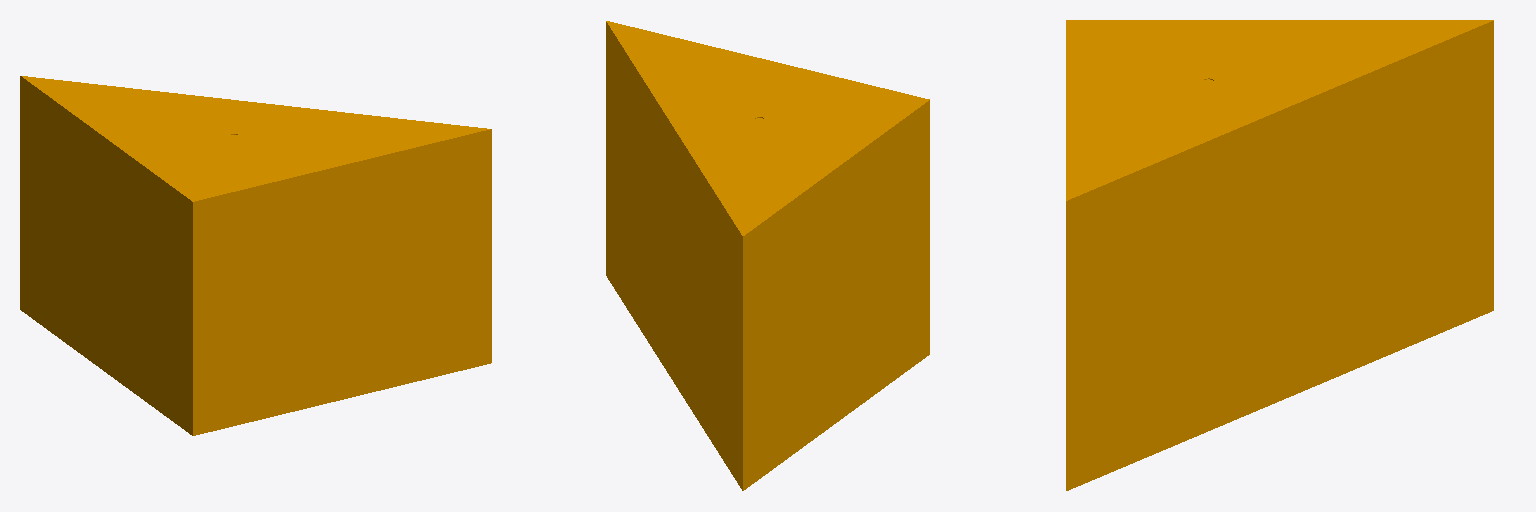
The robot description file, URDF, robot "triangle_s":
<?xml version="1.0" ?>
<robot name="triangle_s">

<link name="triangle_s_base_link">
  <inertial>
    <origin xyz="0.013333333334170227 0.013333333334170229 0.015000000000000003" rpy="0 0 0"/>
    <mass value="0.18839876692488344"/>
    <inertia ixx="3.1e-05" iyy="3.1e-05" izz="3.3e-05" ixy="8e-06" iyz="0.0" ixz="0.0"/>
  </inertial>
  <visual>
    <origin xyz="0 0 0" rpy="0 0 0"/>
    <geometry>
      <mesh filename="meshes/triangle_s_base_link.stl" scale="0.001 0.001 0.001"/>
    </geometry>
    <material name="silver"/>
  </visual>
  <collision>
    <origin xyz="0 0 0" rpy="0 0 0"/>
    <geometry>
      <mesh filename="meshes/triangle_s_base_link.stl" scale="0.001 0.001 0.001"/>
    </geometry>
  </collision>
</link>

<link name="triangle_s_APB_1">
  <inertial>
    <origin xyz="0.0 1.3322676295501878e-17 0.0" rpy="0 0 0"/>
    <mass value="3.288200310757356e-05"/>
    <inertia ixx="0.0" iyy="0.0" izz="0.0" ixy="0.0" iyz="-0.0" ixz="0.0"/>
  </inertial>
  
  
</link>

<link name="triangle_s_APHy_1">
  <inertial>
    <origin xyz="0.0 0.0 5.204170427930421e-18" rpy="0 0 0"/>
    <mass value="3.288200310757356e-05"/>
    <inertia ixx="0.0" iyy="0.0" izz="0.0" ixy="-0.0" iyz="-0.0" ixz="-0.0"/>
  </inertial>
  
  
</link>

<link name="triangle_s_APH_1">
  <inertial>
    <origin xyz="0.0 6.938893903907228e-18 -2.6020852139652106e-17" rpy="0 0 0"/>
    <mass value="3.288200310757356e-05"/>
    <inertia ixx="0.0" iyy="0.0" izz="0.0" ixy="0.0" iyz="0.0" ixz="-0.0"/>
  </inertial>
  
  
</link>

<link name="triangle_s_APS1_1">
  <inertial>
    <origin xyz="2.054660535547731e-07 2.0546605353742586e-07 -2.1412992906588713e-18" rpy="0 0 0"/>
    <mass value="3.288200310757356e-05"/>
    <inertia ixx="0.0" iyy="0.0" izz="0.0" ixy="0.0" iyz="-0.0" ixz="-0.0"/>
  </inertial>
  
  
</link>

<link name="triangle_s_APS2_1">
  <inertial>
    <origin xyz="2.0546605353742586e-07 2.0546605353742586e-07 -1.0408340855860843e-17" rpy="0 0 0"/>
    <mass value="3.288200310757356e-05"/>
    <inertia ixx="0.0" iyy="0.0" izz="0.0" ixy="-0.0" iyz="0.0" ixz="0.0"/>
  </inertial>
  
  
</link>

<joint name="Rigid 1" type="fixed">
  <origin xyz="0.02 0.0 0.015" rpy="0 0 0"/>
  <parent link="triangle_s_base_link"/>
  <child link="triangle_s_APB_1"/>
</joint>

<joint name="Rigid 2" type="fixed">
  <origin xyz="0.02 0.02 0.015" rpy="0 0 0"/>
  <parent link="triangle_s_base_link"/>
  <child link="triangle_s_APHy_1"/>
</joint>

<joint name="Rigid 3" type="fixed">
  <origin xyz="0.0 0.02 0.015" rpy="0 0 0"/>
  <parent link="triangle_s_base_link"/>
  <child link="triangle_s_APH_1"/>
</joint>

<joint name="Rigid 4" type="fixed">
  <origin xyz="0.013333 0.013333 0.0001" rpy="0 0 0"/>
  <parent link="triangle_s_base_link"/>
  <child link="triangle_s_APS1_1"/>
</joint>

<joint name="Rigid 5" type="fixed">
  <origin xyz="0.013333 0.013333 0.0299" rpy="0 0 0"/>
  <parent link="triangle_s_base_link"/>
  <child link="triangle_s_APS2_1"/>
</joint>

</robot>

--- What the picture shows (computed from the rendered views, not written in the file) ---
Views: 3 orthographic renders of the robot side by side, from view 1: azimuth 30°, elevation 25°; view 2: azimuth 150°, elevation 25°; view 3: azimuth 270°, elevation 25°.
Model triangle_s with 6 links and 5 joints (5 fixed), rooted at triangle_s_base_link, posed all joints at 0.
Visible links, largest first — view 1: triangle_s_base_link; view 2: triangle_s_base_link; view 3: triangle_s_base_link.
Boxes of the visible links, left/top/right/bottom form: triangle_s_base_link: left=20, top=76, right=491, bottom=435; triangle_s_base_link: left=606, top=21, right=929, bottom=490; triangle_s_base_link: left=1066, top=20, right=1493, bottom=490.
Bounding box of the posed robot: 0.04 × 0.04 × 0.03 m (x, y, z).
1 mesh visuals loaded from 1 distinct referenced files (1 binary STL).